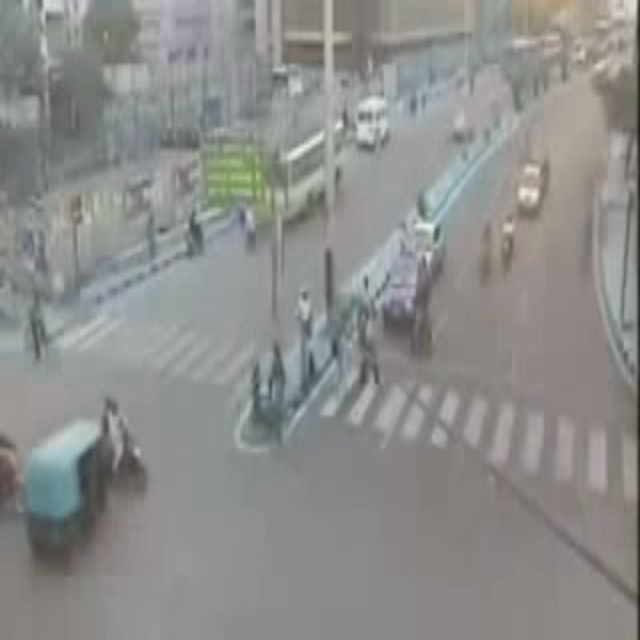acc: (28, 394, 147, 565)
